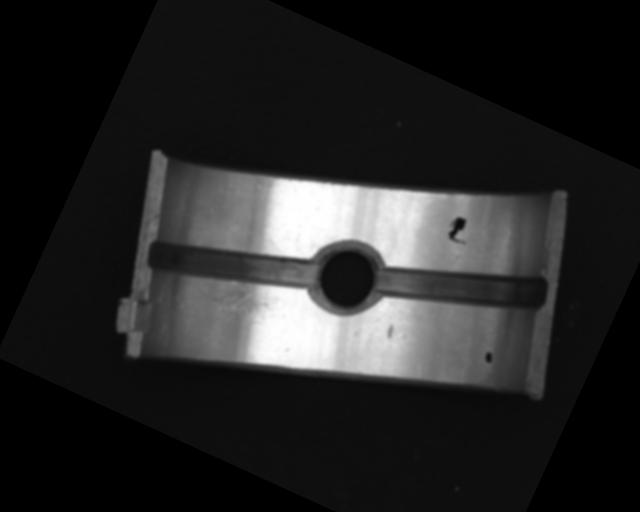blot: (443, 213, 475, 247), (482, 350, 495, 364)
bruise: (384, 322, 397, 339)
gap: (370, 215, 554, 356), (144, 198, 322, 331)
hole: (299, 231, 393, 325)
scratch: (169, 257, 277, 344)
